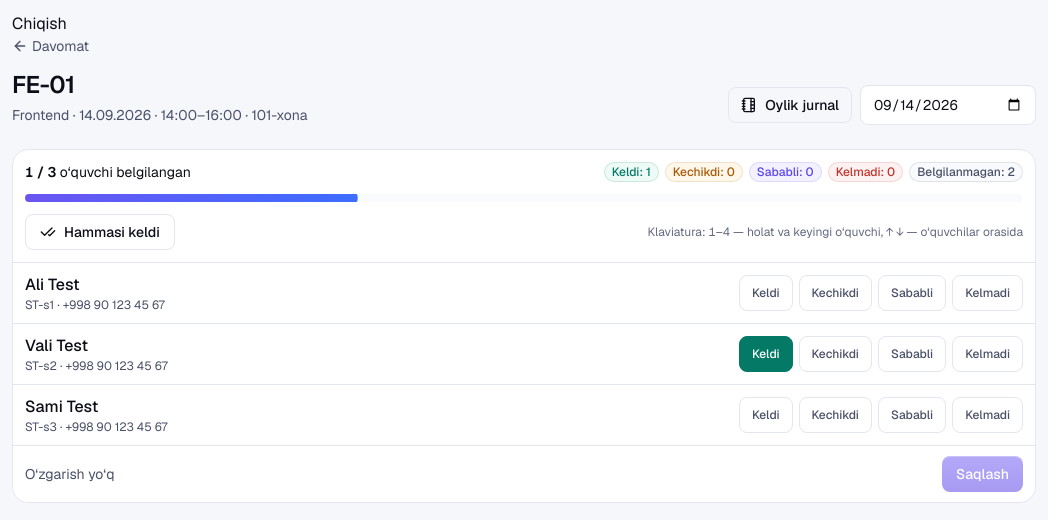
Test: GroupAttendancePage › belgilash darhol ko‘rinadi; faqat o‘zgarganlar yuboriladi; belgilanmagan o‘quvchi "kelmadi" qilib yuborilmaydi
Expected: the heading "FE-01" is shown, [12,69,75,100]
Click the button "Kelmadi" in the row of "ST-s1". click: (988, 293)
box: [952,275,1023,311]
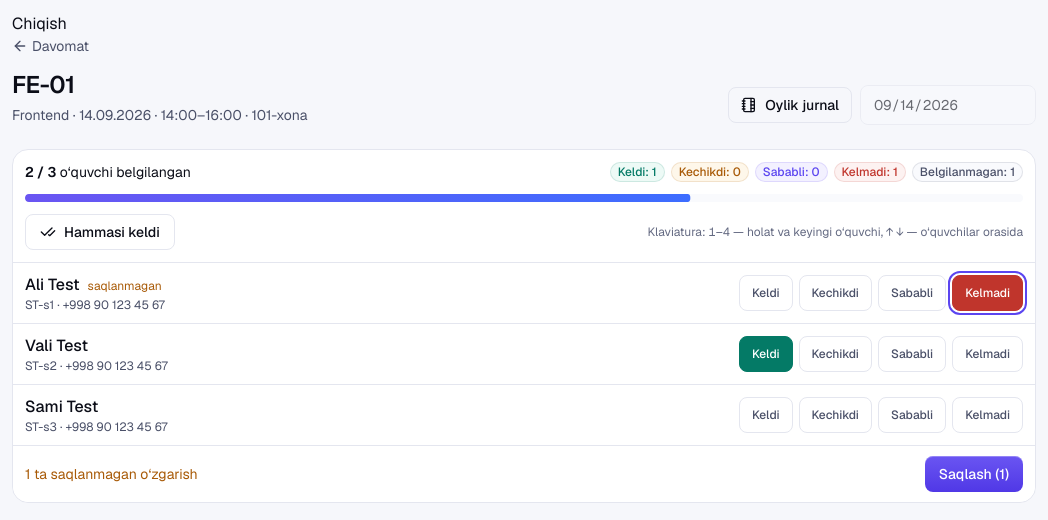
Expected: the text "2 / 3" is shown, [25,163,56,181]
Expected: the text "1 ta saqlanmagan o‘zgarish" is shown, [25,465,198,483]
Click the button "Kechikdi" in the row of "Vali". click: (835, 354)
box: [799,336,872,372]
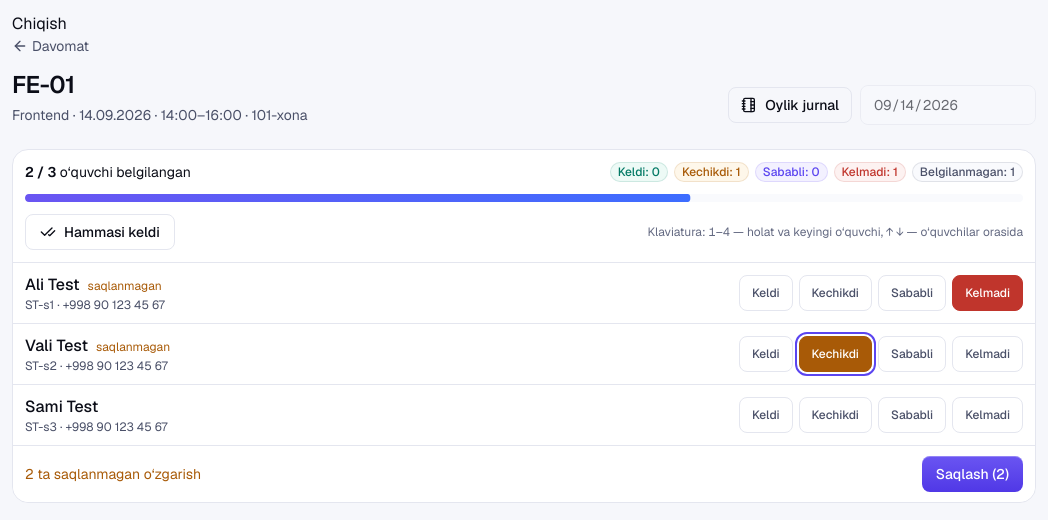
Note: Qaytarib avvalgi holatga qo'yilsa — o'zgarish hisoblanmaydi
Click the button "Keldi" in the row of "Vali". click: (766, 354)
box: [739,336,793,372]
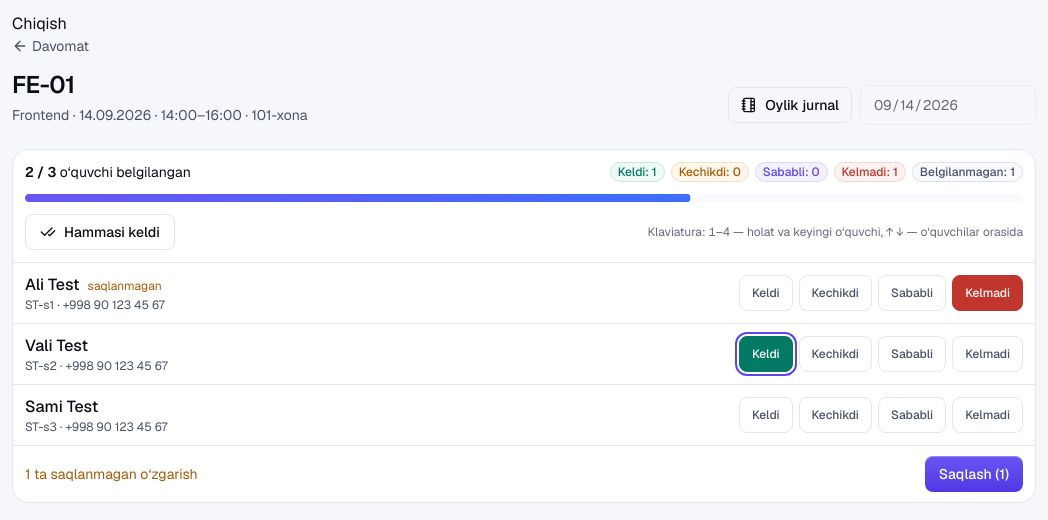
Expected: the button "Saqlash (1)" is enabled, [925,456,1023,492]
Click the button "Kechikdi" in the row of "Vali". click: (835, 354)
box: [799,336,872,372]
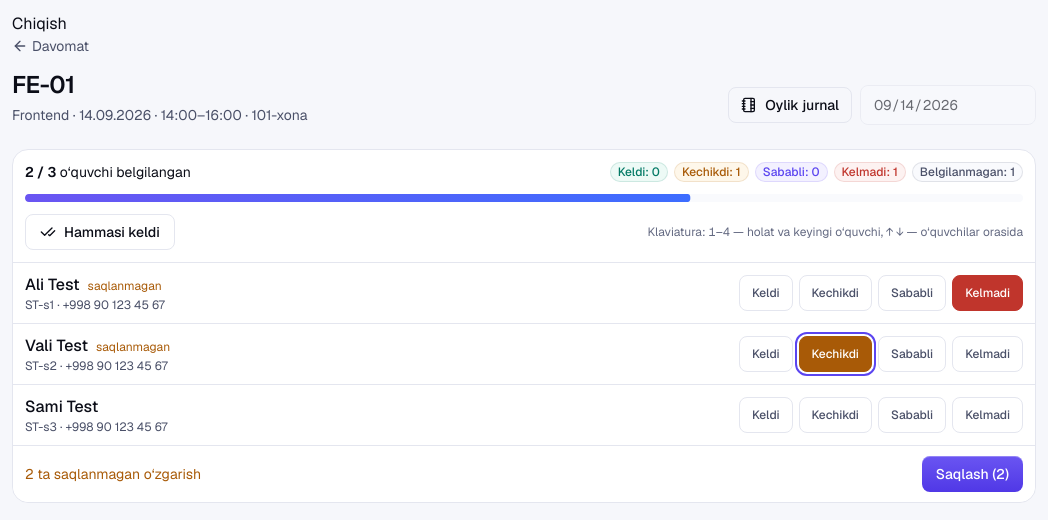
Click the button "Saqlash (2)". click: (972, 474)
box: [922,456,1023,492]
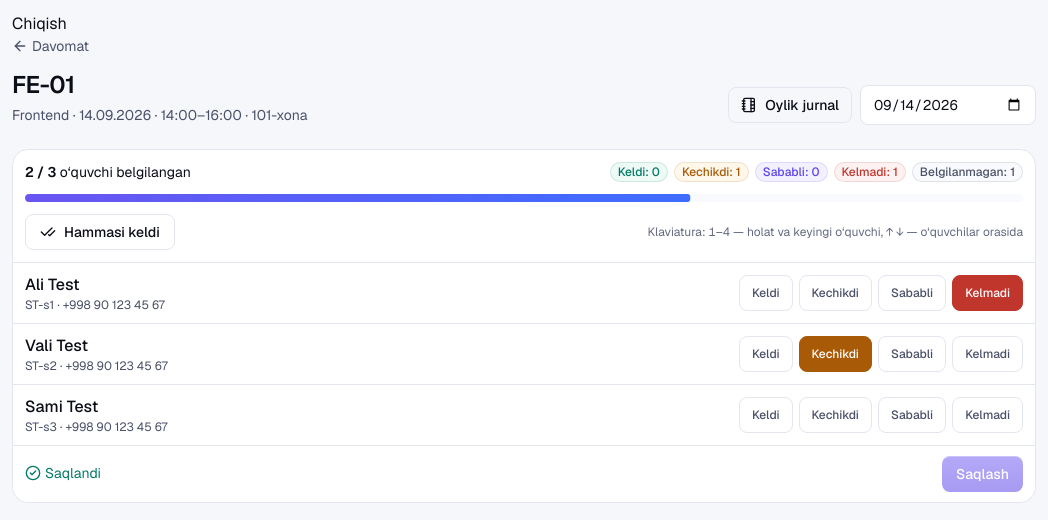
Expected: the text "Saqlandi" is shown, [25,462,101,482]
Expected: the button "Saqlash" is disabled, [942,456,1023,492]
